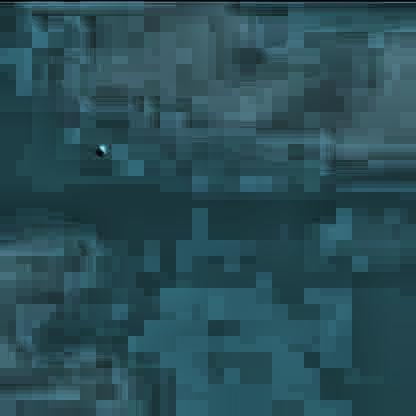golfball: (93, 141, 104, 152)
